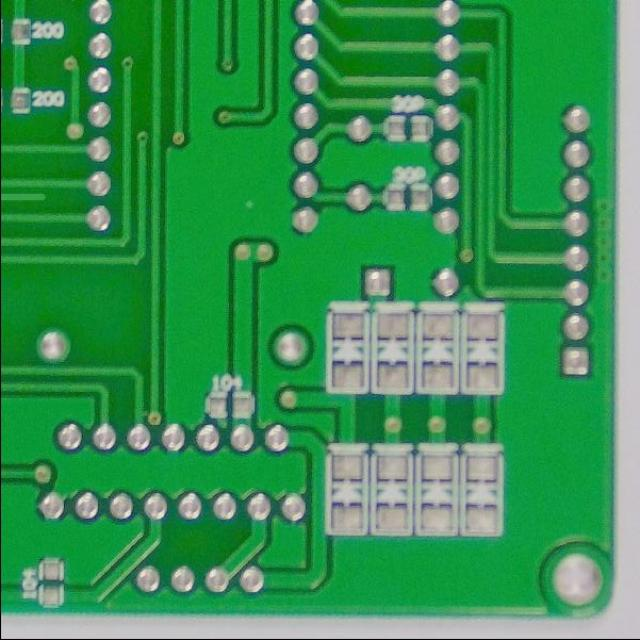spurious_copper: (1, 188, 53, 210)
